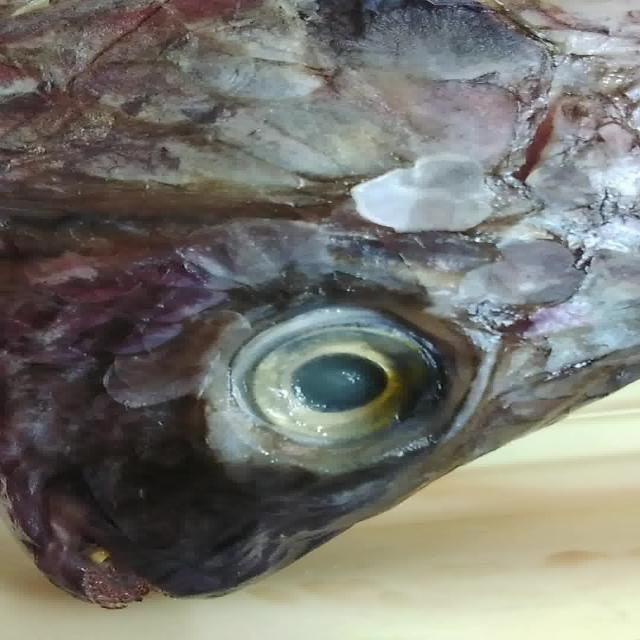Non-Fresh: (217, 286, 488, 471)
